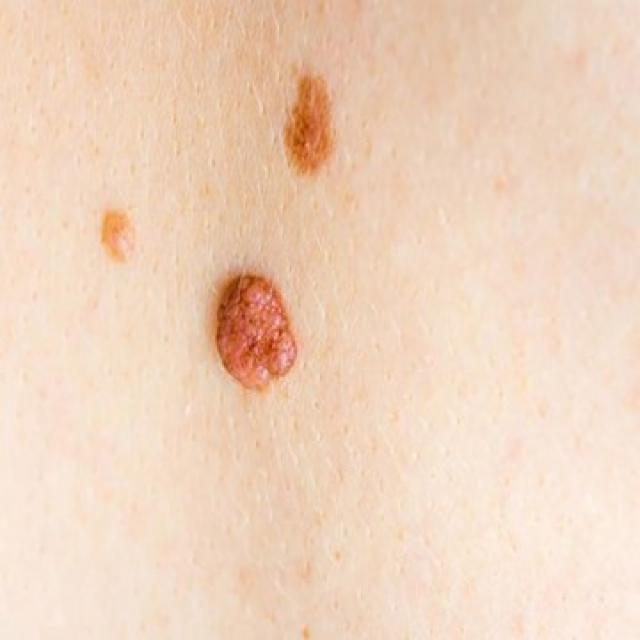wart: (204, 268, 322, 393)
